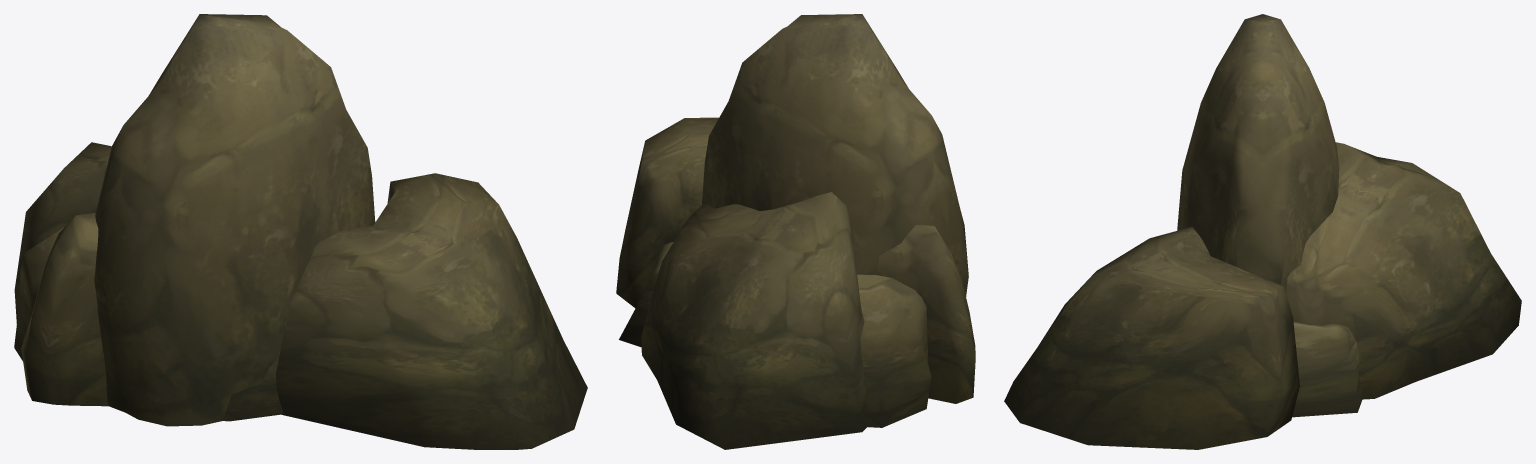
The model's file is Wetlands_Stones_01.fbx.
3 views of the same model, side by side, from view 1: azimuth 30°, elevation 25°; view 2: azimuth 150°, elevation 25°; view 3: azimuth 270°, elevation 25° (orthographic). The views are drawn at different scales.
Parts seen in each view (by area): view 1: WetlandsStone_03, WetlandsStone_04, WetlandsStone_02, WetlandsStone_01; view 2: WetlandsStone_04, WetlandsStone_03, WetlandsStone_01, WetlandsStone_02; view 3: WetlandsStone_04, WetlandsStone_03, WetlandsStone_01.
Part boxes in pixels (x1,y1,x2,y2): WetlandsStone_03: (94,14,375,426); WetlandsStone_04: (14,142,587,449); WetlandsStone_02: (21,213,108,406); WetlandsStone_01: (14,228,283,421); WetlandsStone_04: (616,117,866,449); WetlandsStone_03: (702,14,968,296); WetlandsStone_01: (619,242,931,427); WetlandsStone_02: (875,225,975,403); WetlandsStone_04: (1004,142,1521,449); WetlandsStone_03: (1177,14,1339,293); WetlandsStone_01: (1292,322,1362,417).
Size of the model in its own units: 5.98 by 4.6 by 6.97.
Materials: 1 (1 with a texture image).
